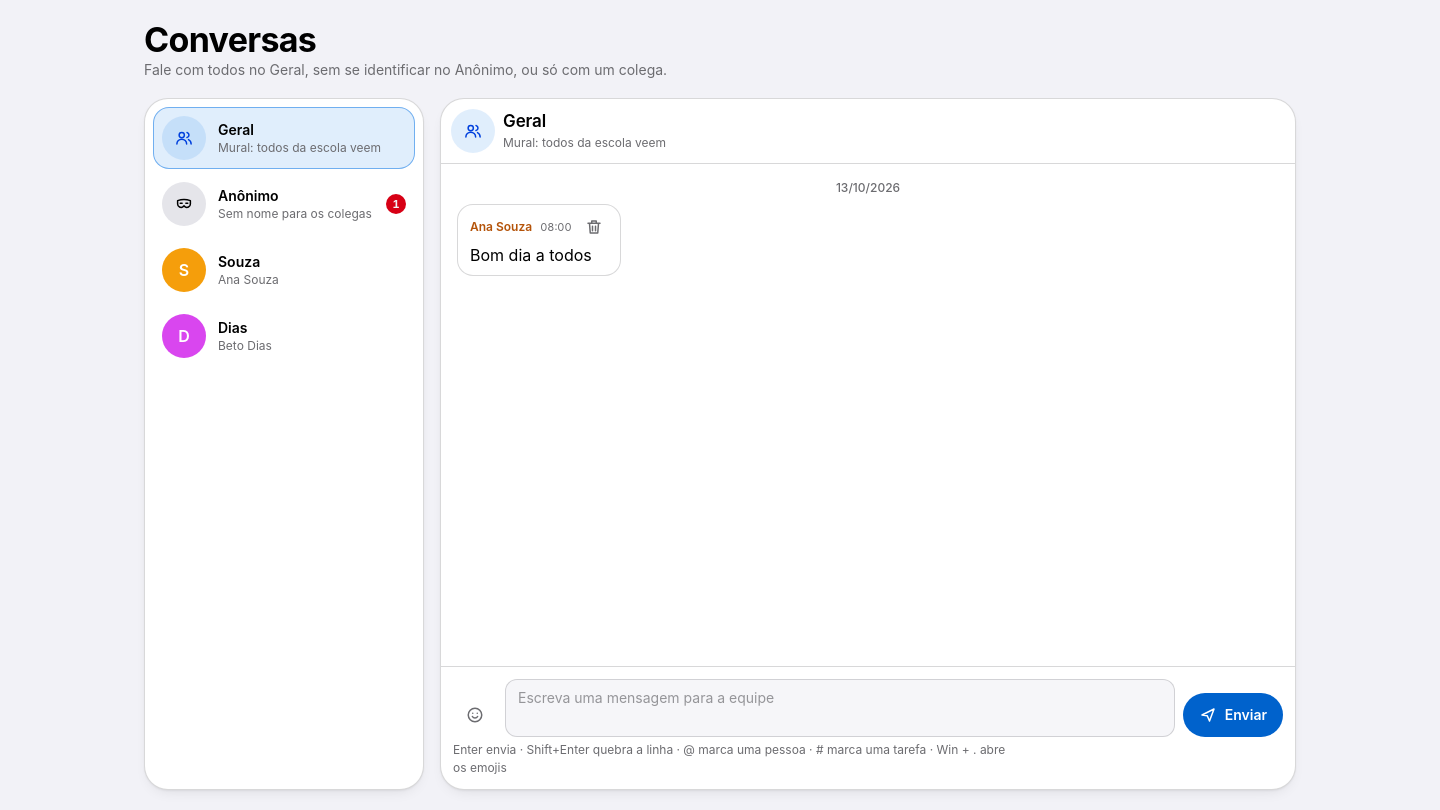
it: conversas (tela) › o secretário modera o canal anônimo
The image size is (1440, 810).
Expected: the navigation bar named "Conversas" is shown, x1=144 y1=98 x2=424 y2=790
Step 1. Click the button "Anônimo Sem nome para os colegas 1" → [284, 204], box x1=153 y1=173 x2=415 y2=235
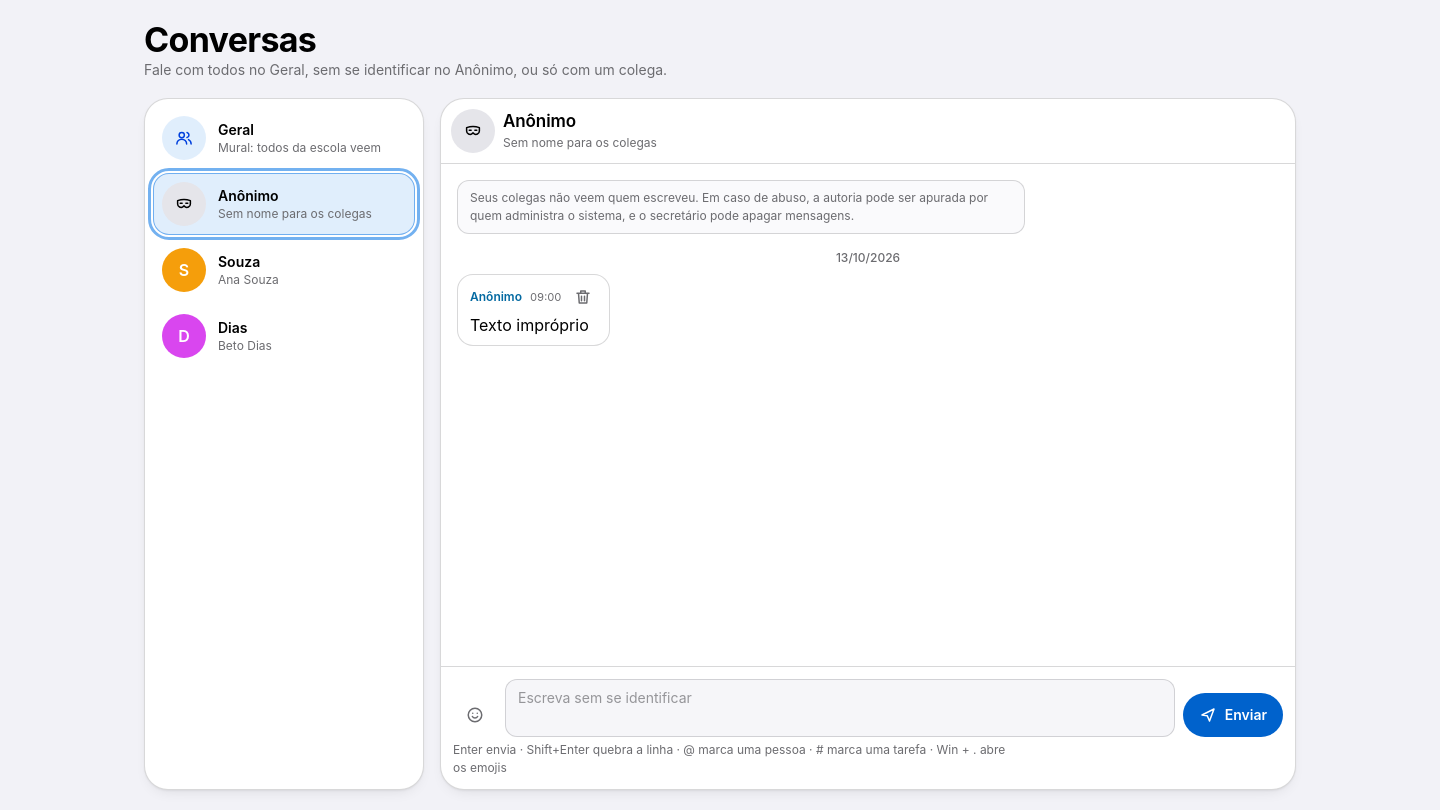
Step 2. Click the button named "Apagar mensagem de Anônimo" → [584, 297], box x1=570 y1=283 x2=598 y2=311
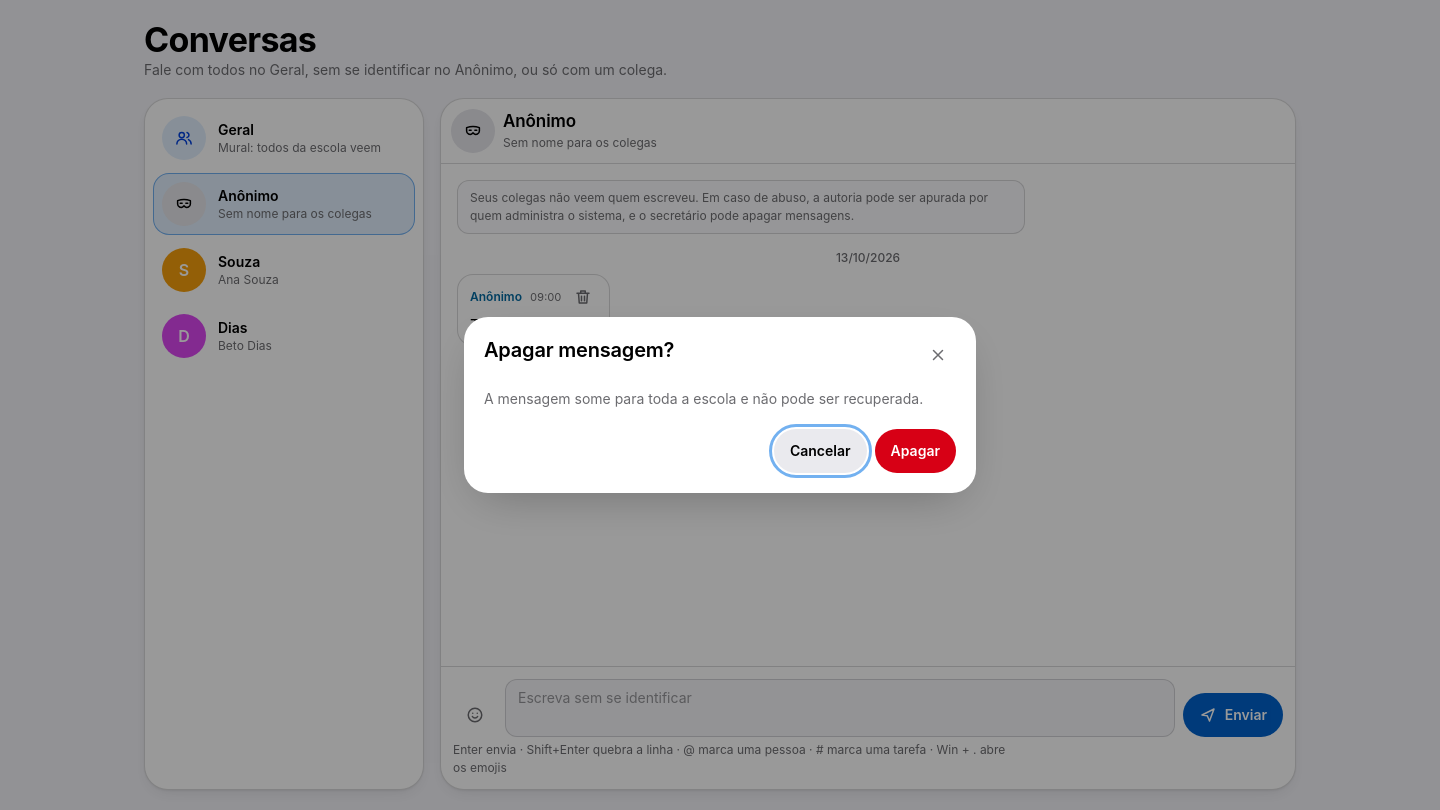
Step 3. Click the button "Apagar" → [915, 451], box x1=874 y1=429 x2=956 y2=473
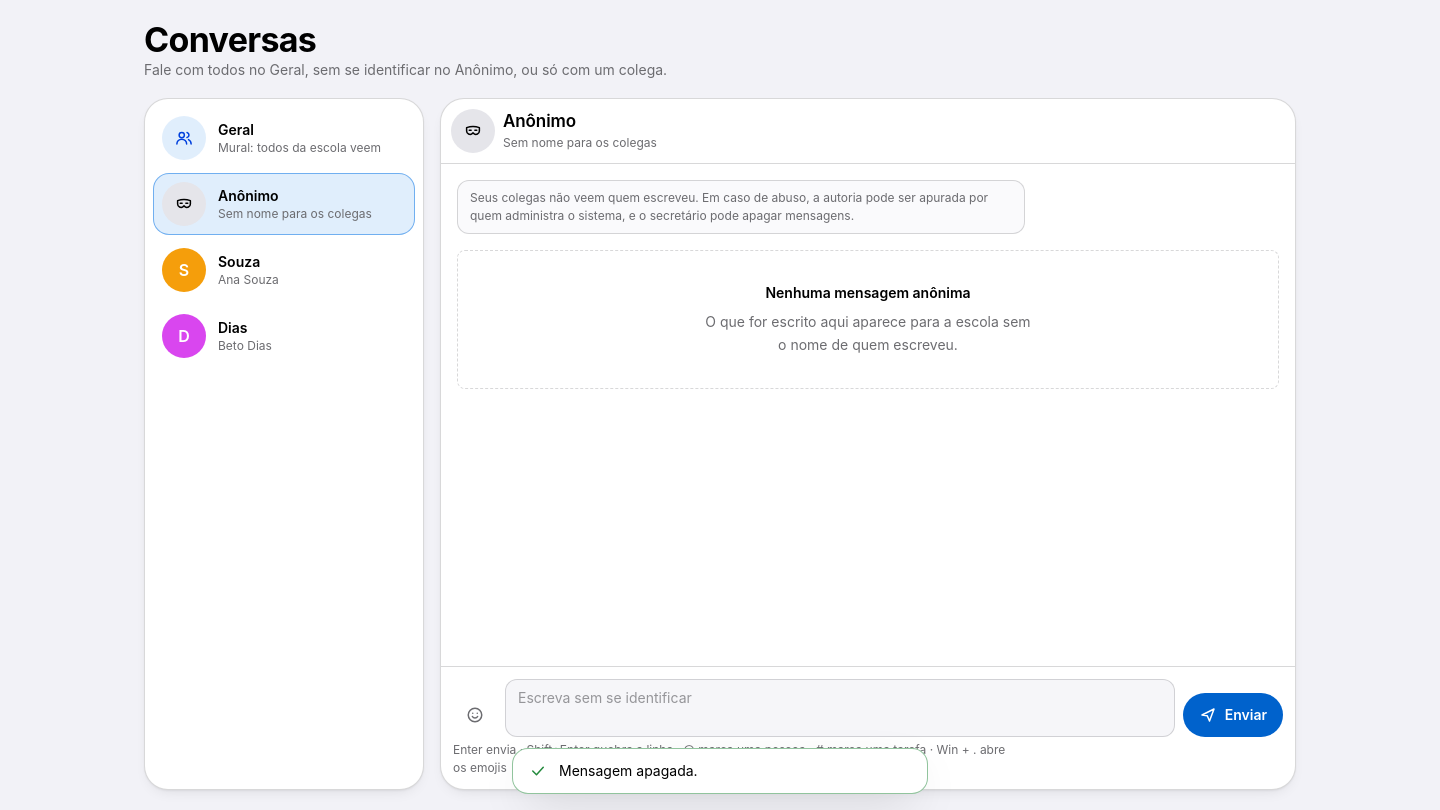
Expected: the text "Texto impróprio" is gone
